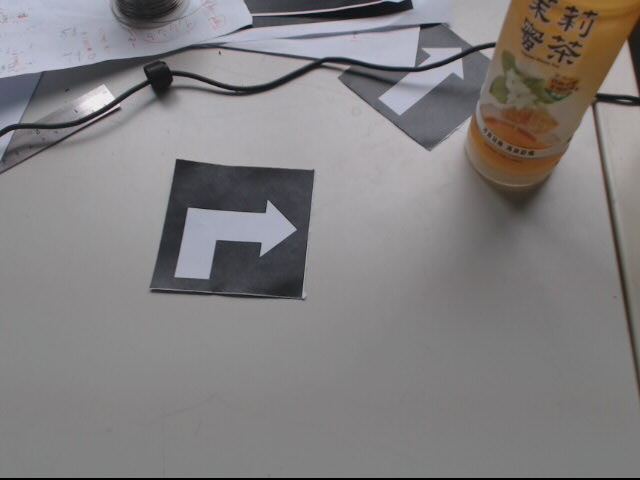right: (148, 157, 316, 297)
